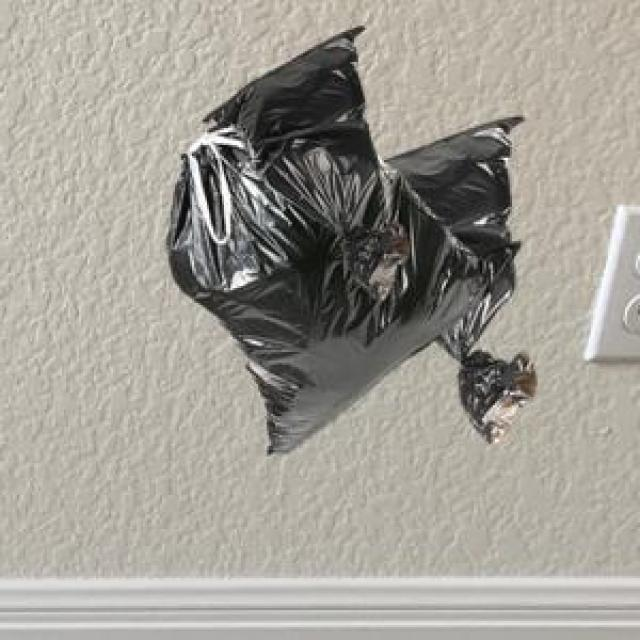Trashbag: (169, 54, 515, 476)
